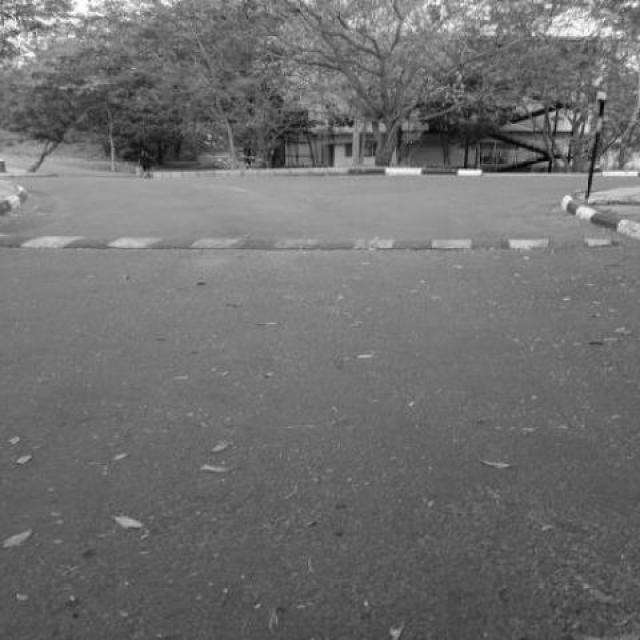Speed Bump: (0, 234, 621, 253)
